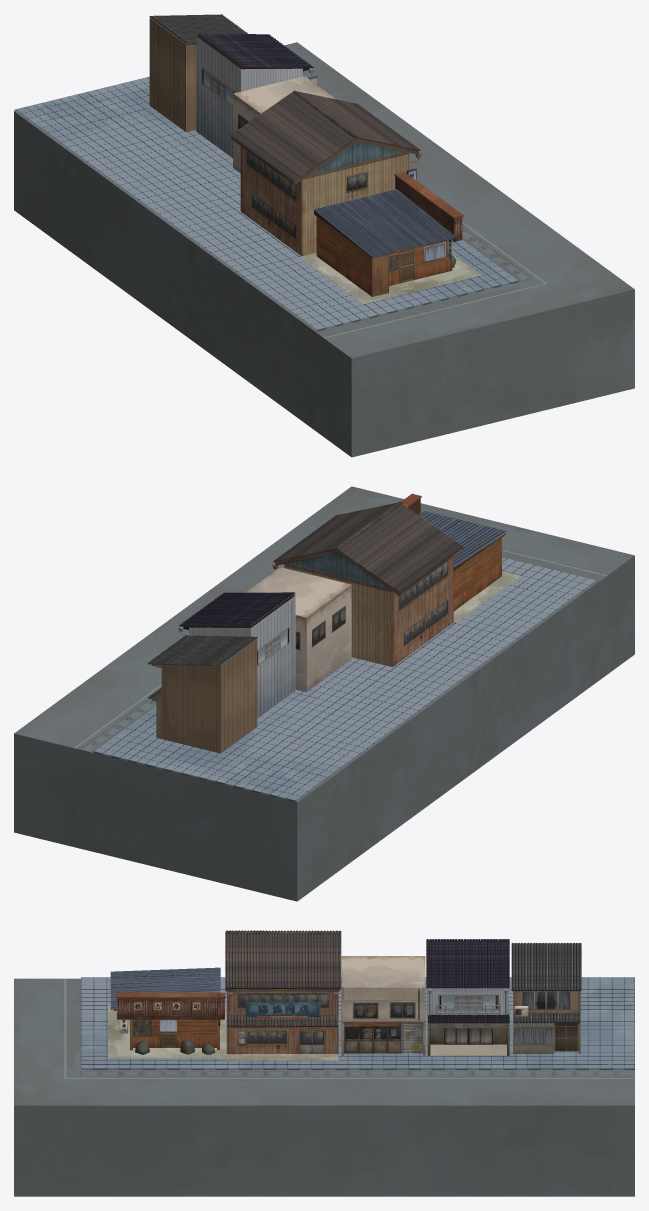
Rendered from Home zone03_02.fbx.
3 views of the same model, one above another, from view 1: azimuth 30°, elevation 25°; view 2: azimuth 150°, elevation 25°; view 3: azimuth 270°, elevation 25° (orthographic). The views are drawn at different scales.
Visible parts, largest first — view 1: Cube.008, Cube.096, Cube.118, Cube.212, Circle.666, Cube.126, Cube.122, Cube.214; view 2: Cube.008, Cube.096, Cube.118, Cube.126, Circle.666, Cube.122, Cube.212, Cube.214; view 3: Cube.008, Cube.096, Cube.118, Circle.666, Cube.122, Cube.212, Cube.126, Cube.214, Cube.137, Cube.119.
Boxes of the visible parts, x1,y1,x2,y2 form: Cube.008: [14, 42, 634, 457]; Cube.096: [14, 76, 518, 331]; Cube.118: [230, 90, 421, 255]; Cube.212: [314, 168, 463, 296]; Circle.666: [196, 34, 314, 157]; Cube.126: [149, 14, 247, 132]; Cube.122: [233, 76, 336, 172]; Cube.214: [299, 253, 481, 304]; Cube.008: [14, 486, 634, 901]; Cube.096: [93, 557, 598, 802]; Cube.118: [272, 501, 462, 666]; Cube.126: [147, 635, 257, 753]; Circle.666: [178, 592, 295, 718]; Cube.122: [245, 567, 351, 691]; Cube.212: [401, 493, 507, 611]; Cube.214: [453, 571, 520, 622]; Cube.008: [14, 978, 634, 1196]; Cube.096: [81, 977, 634, 1069]; Cube.118: [225, 930, 341, 1054]; Circle.666: [426, 939, 509, 1055]; Cube.122: [341, 956, 425, 1055]; Cube.212: [110, 967, 225, 1050]; Cube.126: [511, 942, 581, 1053]; Cube.214: [108, 1005, 226, 1058]; Cube.137: [430, 1044, 506, 1055]; Cube.119: [226, 1053, 338, 1060].
Size of the model in its own units: 1002 by 703 by 2069.
